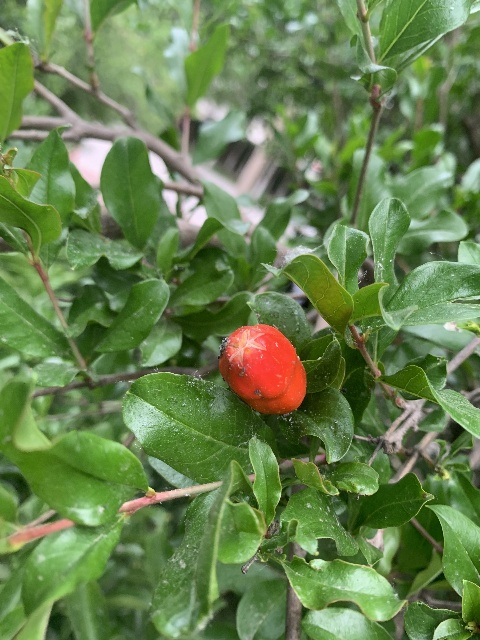bud: (218, 323, 306, 416)
